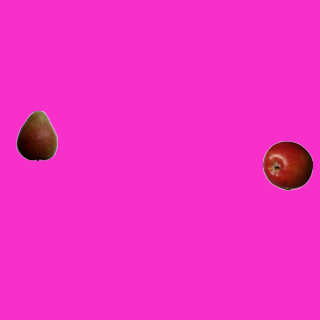Apple Braeburn: (262, 140, 312, 190)
Pear Forelle: (11, 110, 61, 160)
